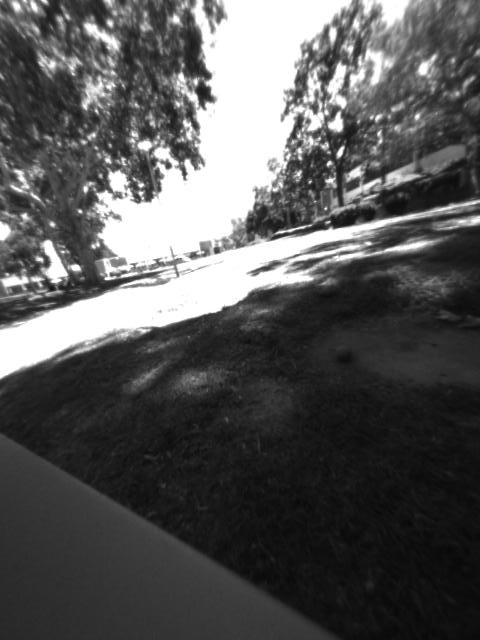dogtoy: (327, 338, 361, 369)
